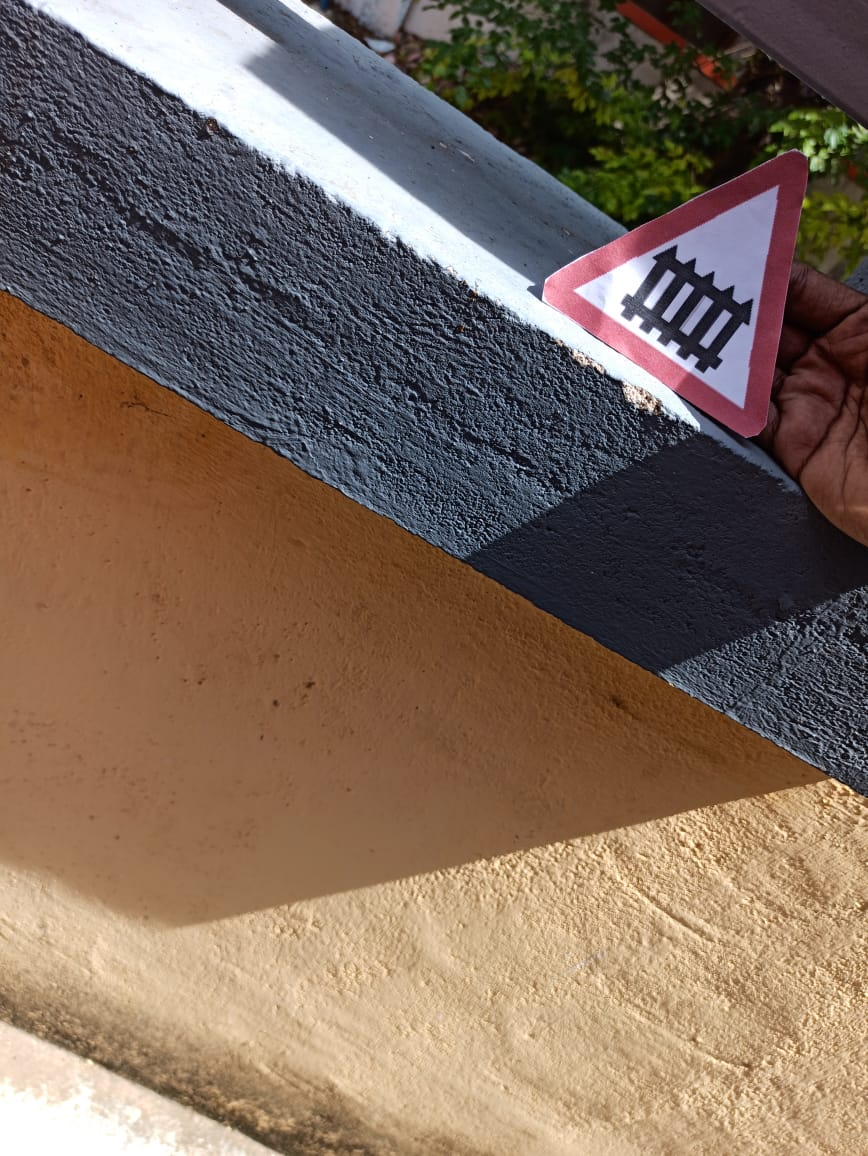GUARDED LEVEL CROSSING: (550, 129, 809, 445)
